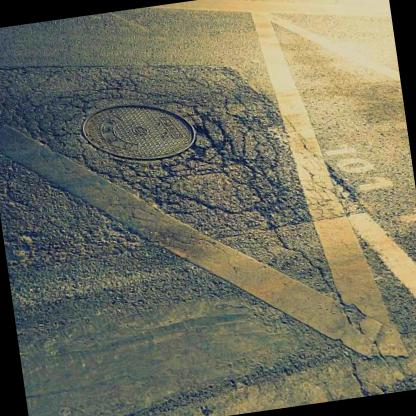manholes: (60, 74, 216, 191)
